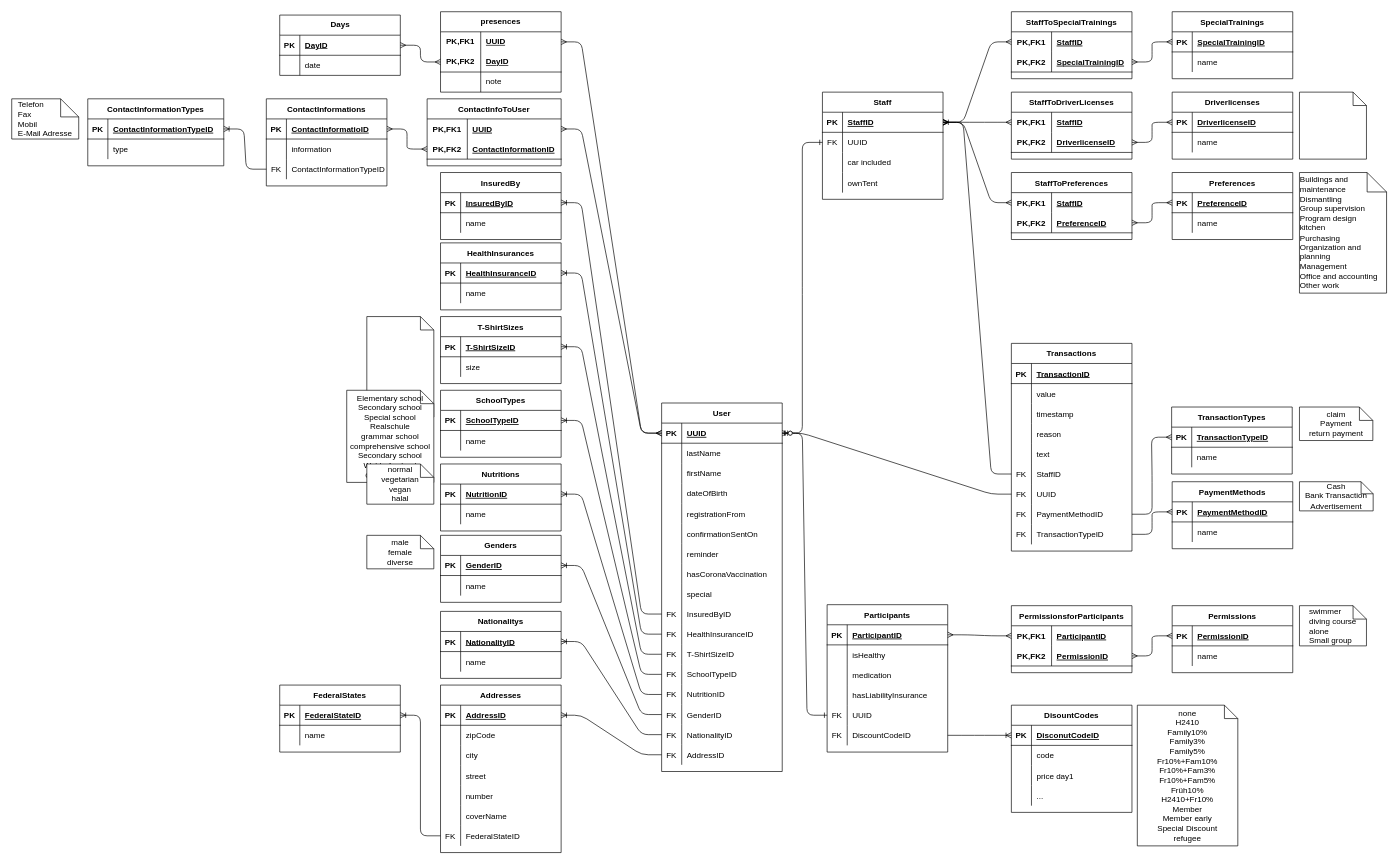
This 1398x864 diagram has some shape labels left out. Each missing label, with the centre of its shape:
"118-128 130-140 142-152 XS S M L XL XXL XXXL" belongs at (400,366).
"B BE C1 C1E C CE" belongs at (1332,125).
